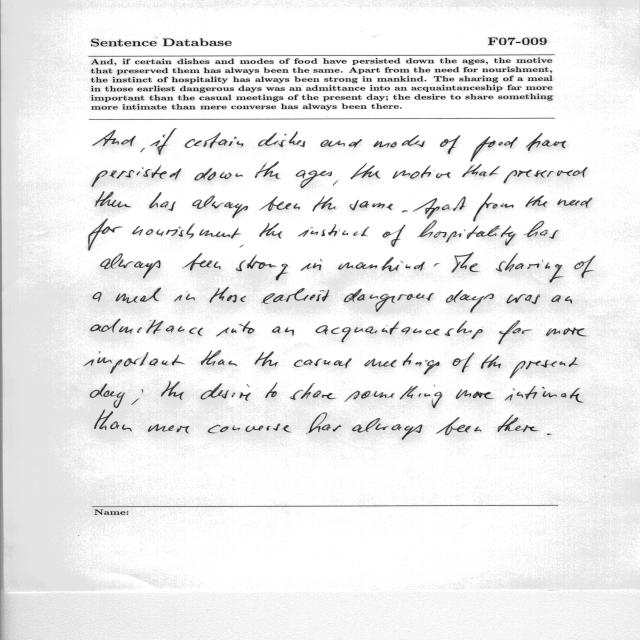word: (315, 321, 483, 342), (418, 220, 516, 246), (84, 351, 184, 374), (345, 385, 443, 408), (344, 288, 434, 312), (496, 253, 563, 283), (92, 165, 181, 187), (91, 319, 203, 336), (132, 223, 241, 239), (364, 353, 440, 375), (353, 418, 423, 440), (101, 254, 161, 279), (510, 358, 578, 379), (504, 167, 588, 183), (505, 386, 583, 403), (236, 255, 288, 280), (192, 195, 248, 218), (470, 136, 518, 162), (413, 196, 466, 219), (338, 257, 425, 271), (473, 193, 514, 221), (446, 290, 494, 313), (261, 288, 329, 304), (89, 220, 123, 251), (95, 192, 131, 220), (185, 132, 243, 148), (298, 224, 369, 237), (201, 383, 251, 401), (90, 384, 125, 409), (208, 424, 291, 434), (498, 320, 532, 344), (94, 410, 132, 431), (437, 417, 481, 435), (290, 383, 336, 400), (393, 166, 451, 179), (258, 131, 305, 147), (306, 413, 341, 434), (526, 133, 566, 151), (150, 129, 177, 155), (115, 288, 161, 303), (93, 130, 136, 146), (498, 415, 538, 432), (296, 170, 332, 188), (182, 253, 220, 270), (524, 221, 559, 239), (374, 135, 425, 147), (209, 287, 246, 303), (194, 168, 243, 180), (261, 196, 300, 211), (216, 322, 255, 337), (294, 358, 352, 368), (452, 253, 479, 273), (201, 351, 237, 366), (149, 192, 176, 211), (462, 164, 500, 177), (383, 225, 405, 247), (574, 256, 596, 278), (351, 163, 380, 179), (161, 381, 184, 400), (350, 200, 393, 210), (453, 353, 474, 373), (148, 424, 190, 434), (255, 162, 279, 179), (440, 135, 460, 154), (456, 389, 494, 399), (321, 139, 363, 148), (255, 351, 278, 367), (546, 328, 586, 337), (558, 198, 593, 208), (313, 196, 336, 211), (259, 223, 282, 238), (507, 294, 540, 304), (481, 355, 501, 369), (526, 196, 548, 208), (300, 259, 322, 271), (272, 326, 294, 336), (131, 389, 143, 405), (265, 382, 277, 398), (551, 295, 572, 304), (174, 294, 195, 302), (93, 292, 102, 302), (333, 181, 338, 186), (141, 148, 145, 152), (434, 263, 439, 266), (402, 210, 408, 212), (240, 245, 244, 248), (547, 434, 552, 435)
